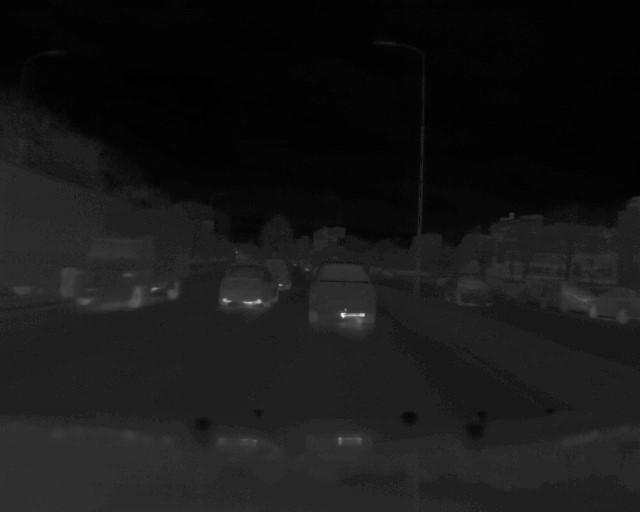car: (77, 192, 187, 314), (306, 260, 380, 327), (217, 264, 283, 310)
